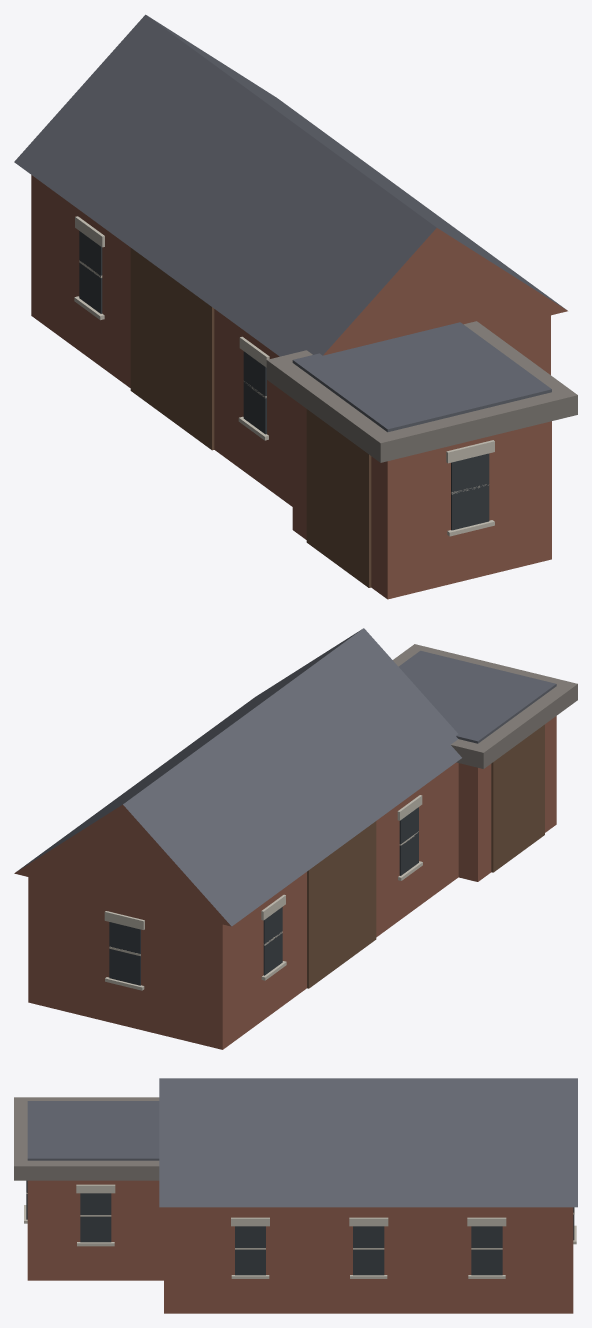
Rendered from first_presbyterian_church_2029_indiana_dwelling__draft_1904.glb.
3 views of the same model, one above another, from view 1: azimuth 30°, elevation 25°; view 2: azimuth 150°, elevation 25°; view 3: azimuth 270°, elevation 25° (orthographic). The views are drawn at different scales.
Visible parts, largest first — view 1: first_presbyterian_church_2029_indiana_dwelling__draft_1904; view 2: first_presbyterian_church_2029_indiana_dwelling__draft_1904; view 3: first_presbyterian_church_2029_indiana_dwelling__draft_1904.
Part boxes in pixels (left/top/right/bottom): first_presbyterian_church_2029_indiana_dwelling__draft_1904: left=14, top=14, right=577, bottom=599; first_presbyterian_church_2029_indiana_dwelling__draft_1904: left=14, top=628, right=577, bottom=1049; first_presbyterian_church_2029_indiana_dwelling__draft_1904: left=14, top=1078, right=577, bottom=1313.
Size of the model in its own units: 6.15 by 5.5 by 14.47.
